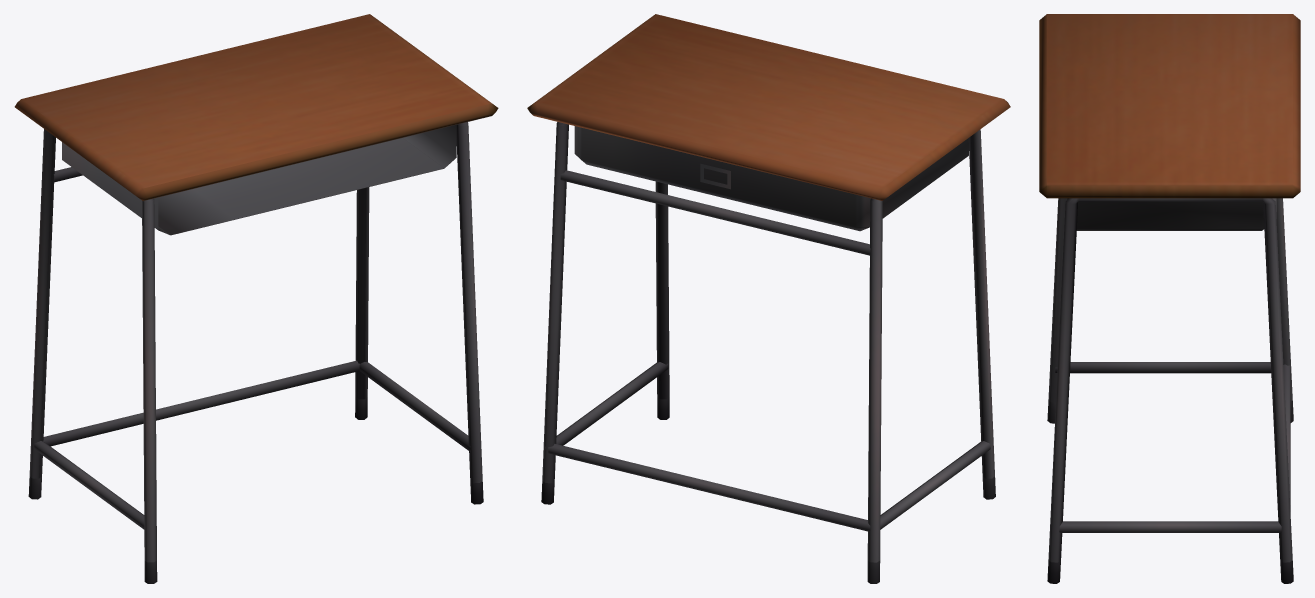
File: desk_type00_eve.FBX
The picture shows the model from 3 angles, left to right: view 1: azimuth 30°, elevation 25°; view 2: azimuth 150°, elevation 25°; view 3: azimuth 270°, elevation 25°; orthographic projection.
Parts seen in each view (by area): view 1: crm_deskA000_eve; view 2: crm_deskA000_eve; view 3: crm_deskA000_eve.
Part boxes in pixels (<box>): crm_deskA000_eve: <box>14,14,498,583</box>; crm_deskA000_eve: <box>527,14,1010,583</box>; crm_deskA000_eve: <box>1039,14,1300,583</box>.
Size of the model in its own units: 79.26 by 83.44 by 49.19.
